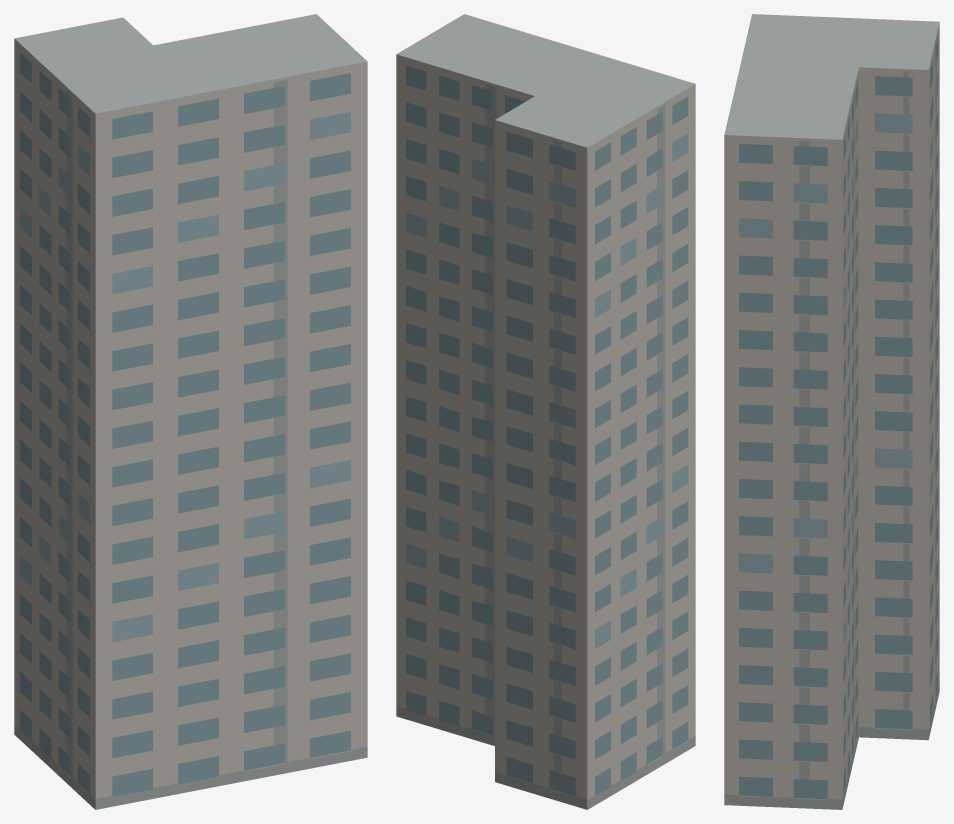
The model's file is residential-686bd261-e7b5-4ac8-9f09-73c1891dcbda.glb.
3 views of the same model, side by side, from view 1: azimuth 30°, elevation 25°; view 2: azimuth 150°, elevation 25°; view 3: azimuth 270°, elevation 25° (orthographic). The views are drawn at different scales.
Visible parts, largest first — view 1: residential-686bd261-e7b5-4ac8-9f09-73c1891dcbda.tmp; view 2: residential-686bd261-e7b5-4ac8-9f09-73c1891dcbda.tmp; view 3: residential-686bd261-e7b5-4ac8-9f09-73c1891dcbda.tmp.
Boxes of the visible parts, box(x1,y1,x2,y2) form: residential-686bd261-e7b5-4ac8-9f09-73c1891dcbda.tmp: box(14, 14, 367, 809); residential-686bd261-e7b5-4ac8-9f09-73c1891dcbda.tmp: box(396, 14, 695, 809); residential-686bd261-e7b5-4ac8-9f09-73c1891dcbda.tmp: box(724, 14, 939, 809).
Bounding box in the file's own units: 24.17 × 60 × 17.48.
